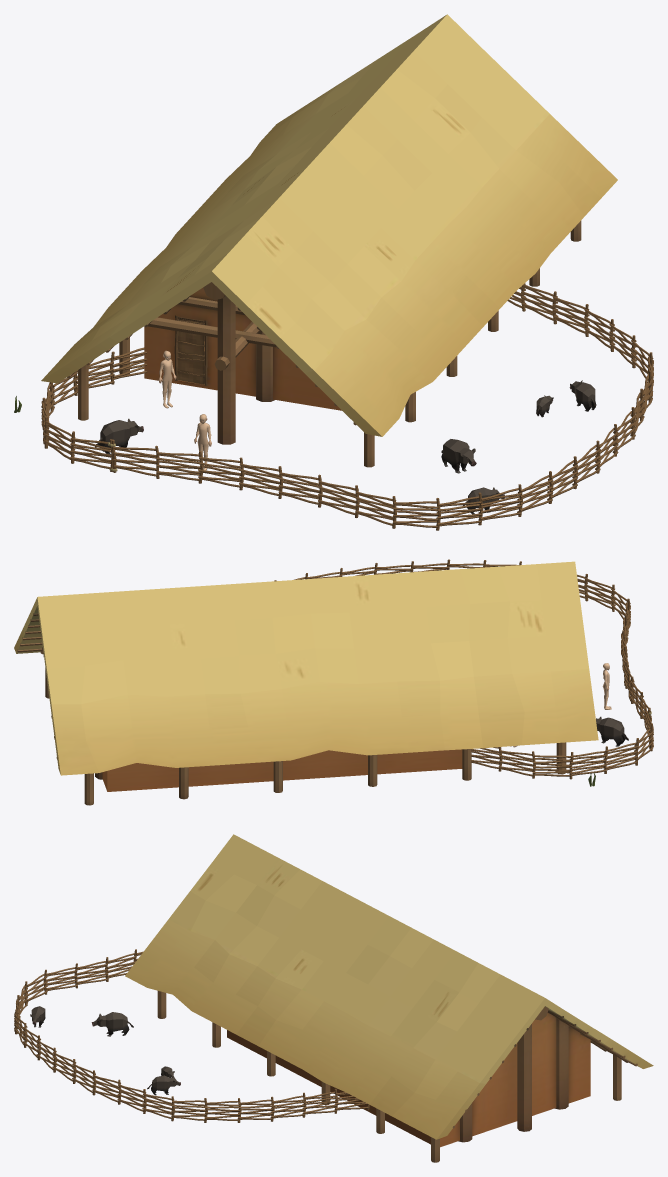
3 renders of one model, top to bottom at view 1: azimuth 30°, elevation 25°; view 2: azimuth 150°, elevation 25°; view 3: azimuth 270°, elevation 25°, orthographic. The views are drawn at different scales.
Visible parts, largest first — view 1: House.001, FenceGate, Fence1.009, Fence1, Fence1.010, Fence1.004, Boar, Fence1.011, Fence1.006, Fence1.005, Boar.001, Fence1.001 (+3 smaller); view 2: House.001, Fence2.003, Fence2.002, Boar, Fence1.002, Fence2.001, Fence1.010, Fence1.003; view 3: House.001, Boar.001, Fence1.021, Fence1.022, Fence1.020, Fence1.023, Fence1.024, Fence1.007, Fence1.008, Fence1.019.
Part boxes in pixels (left/top/right/bottom): House.001: left=41, top=14, right=617, bottom=467; FenceGate: left=107, top=439, right=159, bottom=478; Fence1.009: left=393, top=498, right=441, bottom=530; Fence1: left=156, top=451, right=203, bottom=483; Fence1.010: left=436, top=492, right=483, bottom=526; Fence1.004: left=198, top=457, right=244, bottom=490; Boar: left=95, top=418, right=143, bottom=454; Fence1.011: left=478, top=484, right=522, bottom=520; Fence1.006: left=278, top=472, right=322, bottom=507; Fence1.005: left=239, top=463, right=282, bottom=498; Boar.001: left=441, top=439, right=476, bottom=473; Fence1.001: left=70, top=437, right=113, bottom=471; House.001: left=14, top=561, right=598, bottom=805; Fence2.003: left=532, top=752, right=573, bottom=779; Fence2.002: left=569, top=746, right=607, bottom=775; Boar: left=596, top=716, right=628, bottom=746; Fence1.002: left=498, top=750, right=535, bottom=778; Fence2.001: left=603, top=738, right=638, bottom=770; Fence1.010: left=584, top=574, right=615, bottom=609; Fence1.003: left=471, top=747, right=502, bottom=771; House.001: left=125, top=834, right=653, bottom=1162; Boar.001: left=91, top=1012, right=133, bottom=1036; Fence1.021: left=204, top=1098, right=241, bottom=1122; Fence1.022: left=237, top=1096, right=274, bottom=1121; Fence1.020: left=171, top=1098, right=207, bottom=1122; Fence1.023: left=270, top=1092, right=306, bottom=1118; Fence1.024: left=302, top=1088, right=338, bottom=1114; Fence1.007: left=74, top=961, right=108, bottom=988; Fence1.008: left=43, top=967, right=77, bottom=994; Fence1.019: left=142, top=1093, right=174, bottom=1121.
Size of the model in its own units: 20.78 by 5.59 by 22.84.
7 materials, 7 textured.
